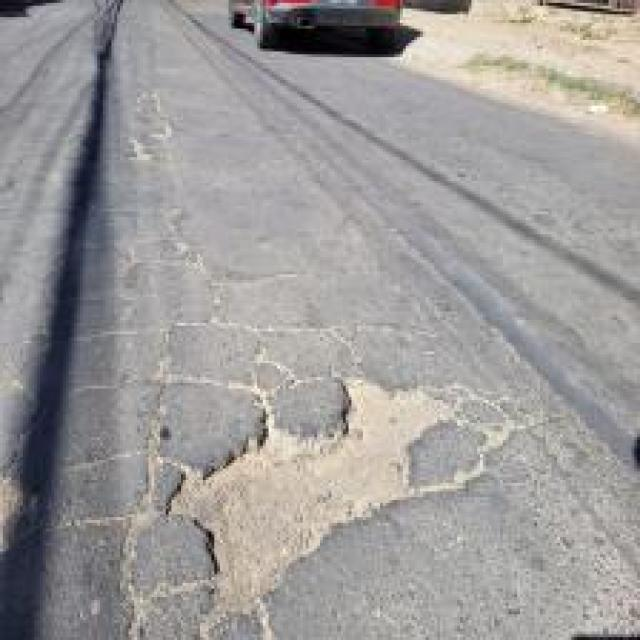BACHE: (179, 380, 479, 612)
PIEL DE COCODRILO: (0, 71, 417, 639)
